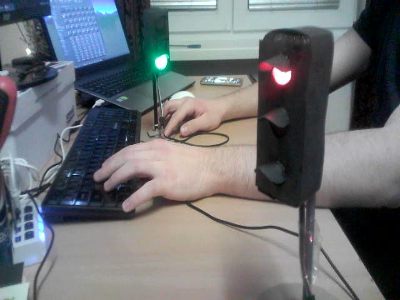trafficlight_green: (151, 9, 170, 70)
trafficlight_red: (259, 39, 305, 188)
